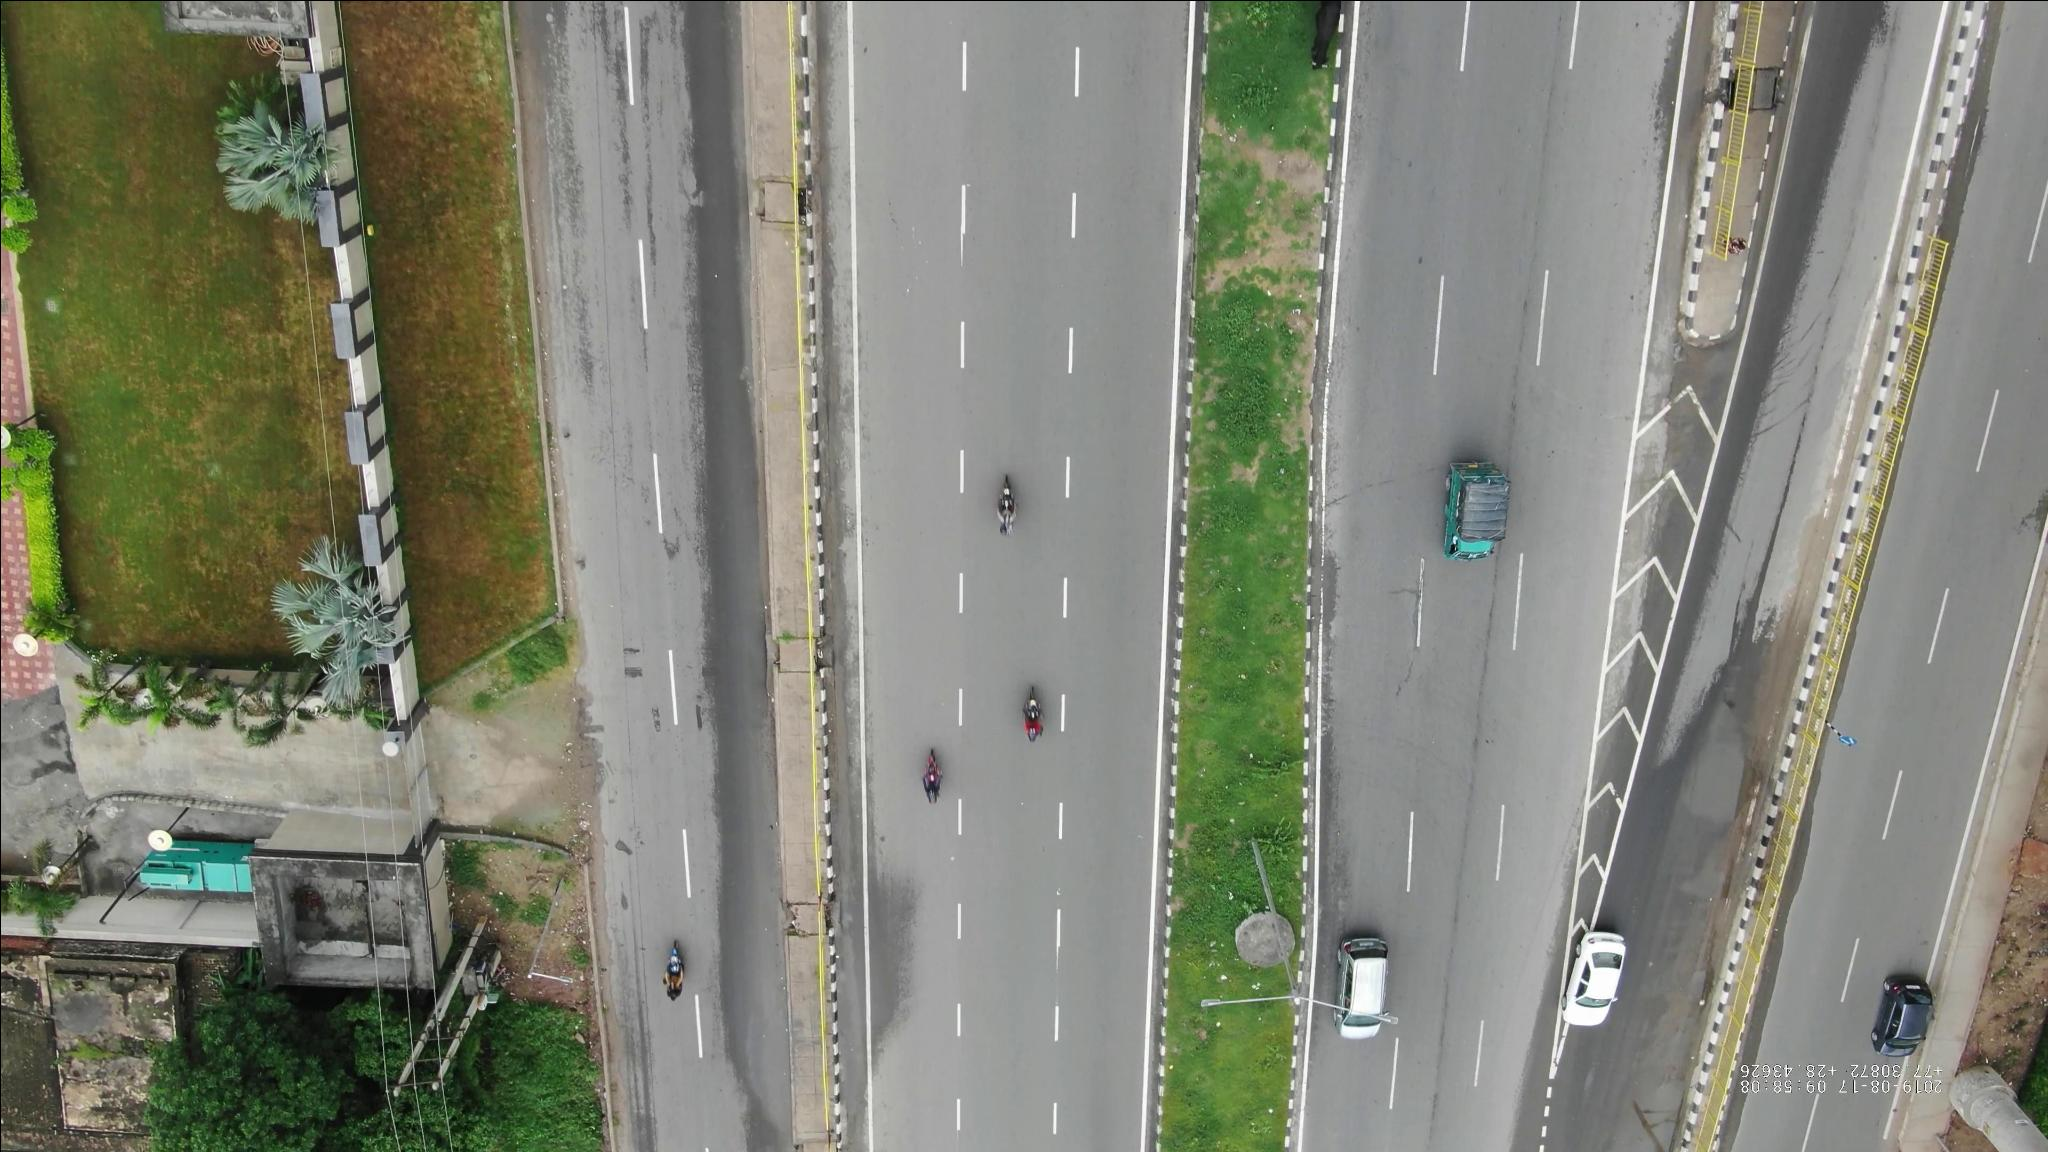Cracks: (1383, 553, 1450, 715)
